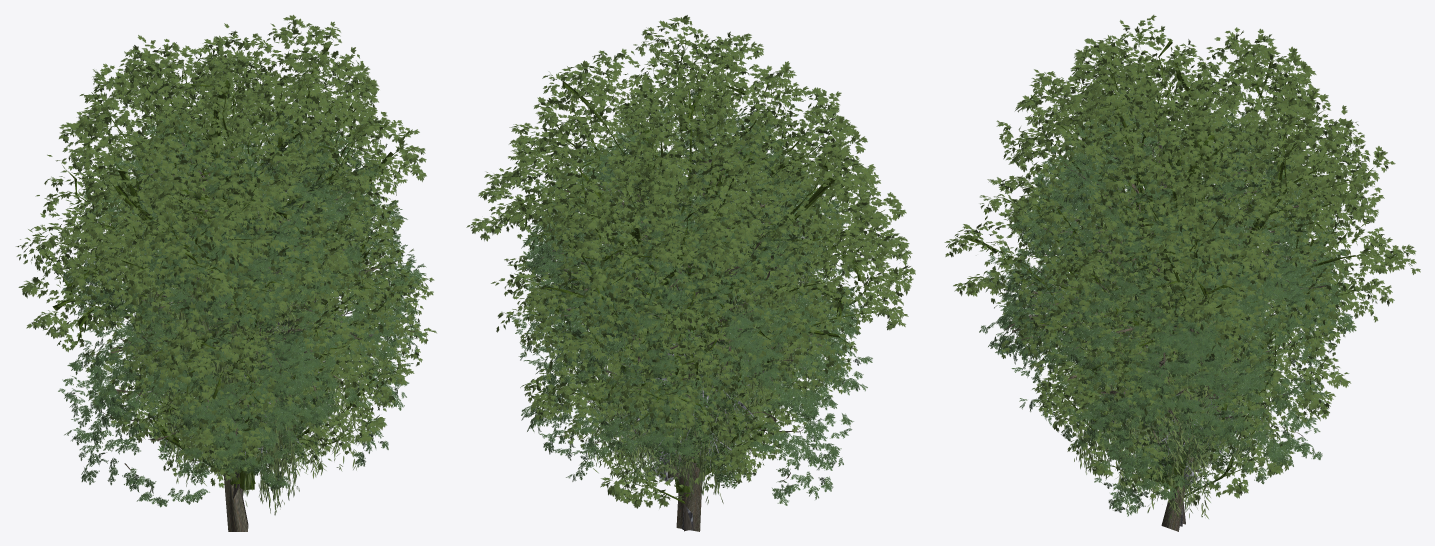
The model's file is vegetation_00.glb.
The picture shows the model from 3 angles, left to right: view 1: azimuth 30°, elevation 25°; view 2: azimuth 150°, elevation 25°; view 3: azimuth 270°, elevation 25°; orthographic projection. The views are drawn at different scales.
Visible parts, largest first — view 1: prototype_005, prototype_007, prototype_003, prototype_006, prototype_001; view 2: prototype_005, prototype_007, prototype_003, prototype_006, prototype_001, prototype_000; view 3: prototype_005, prototype_007, prototype_003, prototype_006, prototype_001, prototype_000, prototype_002.
Boxes of the visible parts, x1,y1,x2,y2 form: prototype_005: (16,15,436,490); prototype_007: (58,110,426,531); prototype_003: (76,47,434,488); prototype_006: (133,208,370,515); prototype_001: (130,240,342,485); prototype_005: (466,15,915,508); prototype_007: (509,90,872,531); prototype_003: (534,69,851,497); prototype_006: (579,201,807,531); prototype_001: (603,257,777,530); prototype_000: (606,333,751,488); prototype_005: (944,14,1420,506); prototype_007: (979,88,1356,531); prototype_003: (998,39,1351,480); prototype_006: (1074,225,1277,524); prototype_001: (1079,247,1289,526); prototype_000: (1116,327,1251,498); prototype_002: (1135,337,1231,471).
Bounding box in the file's own units: 18.18 × 20.74 × 18.16.
12 materials, 12 textured.
